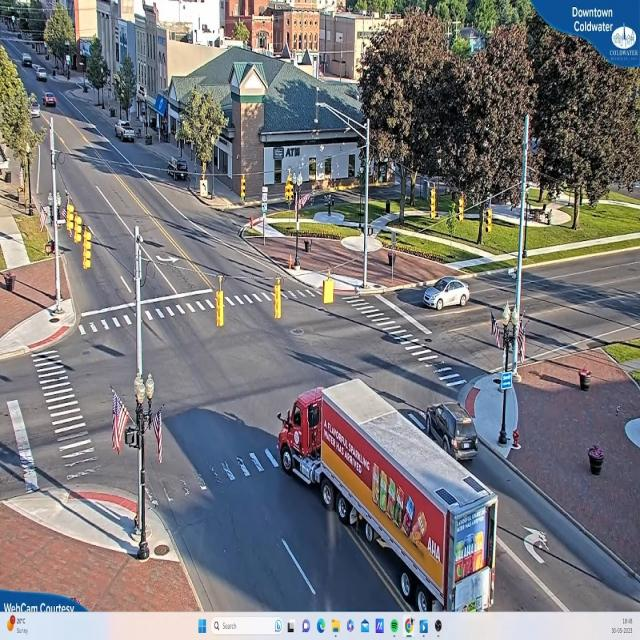car: (420, 277, 471, 309)
